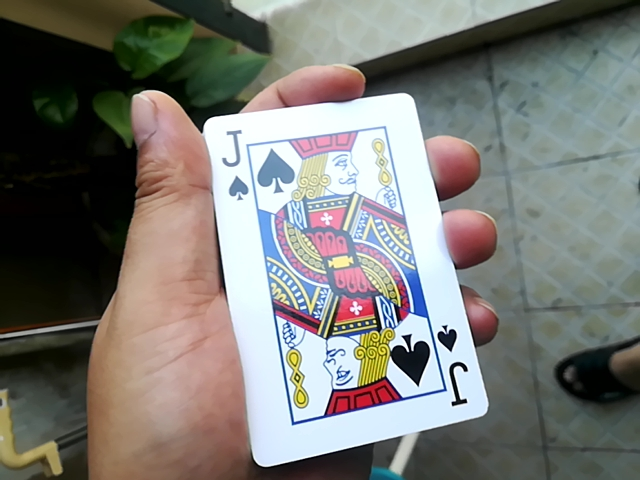ht j: (194, 76, 464, 465)
